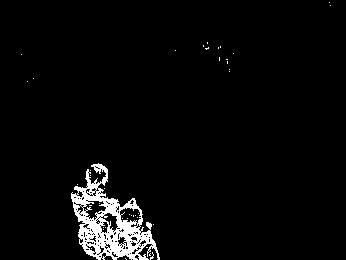person: (72, 163, 120, 260), (117, 205, 161, 260)
